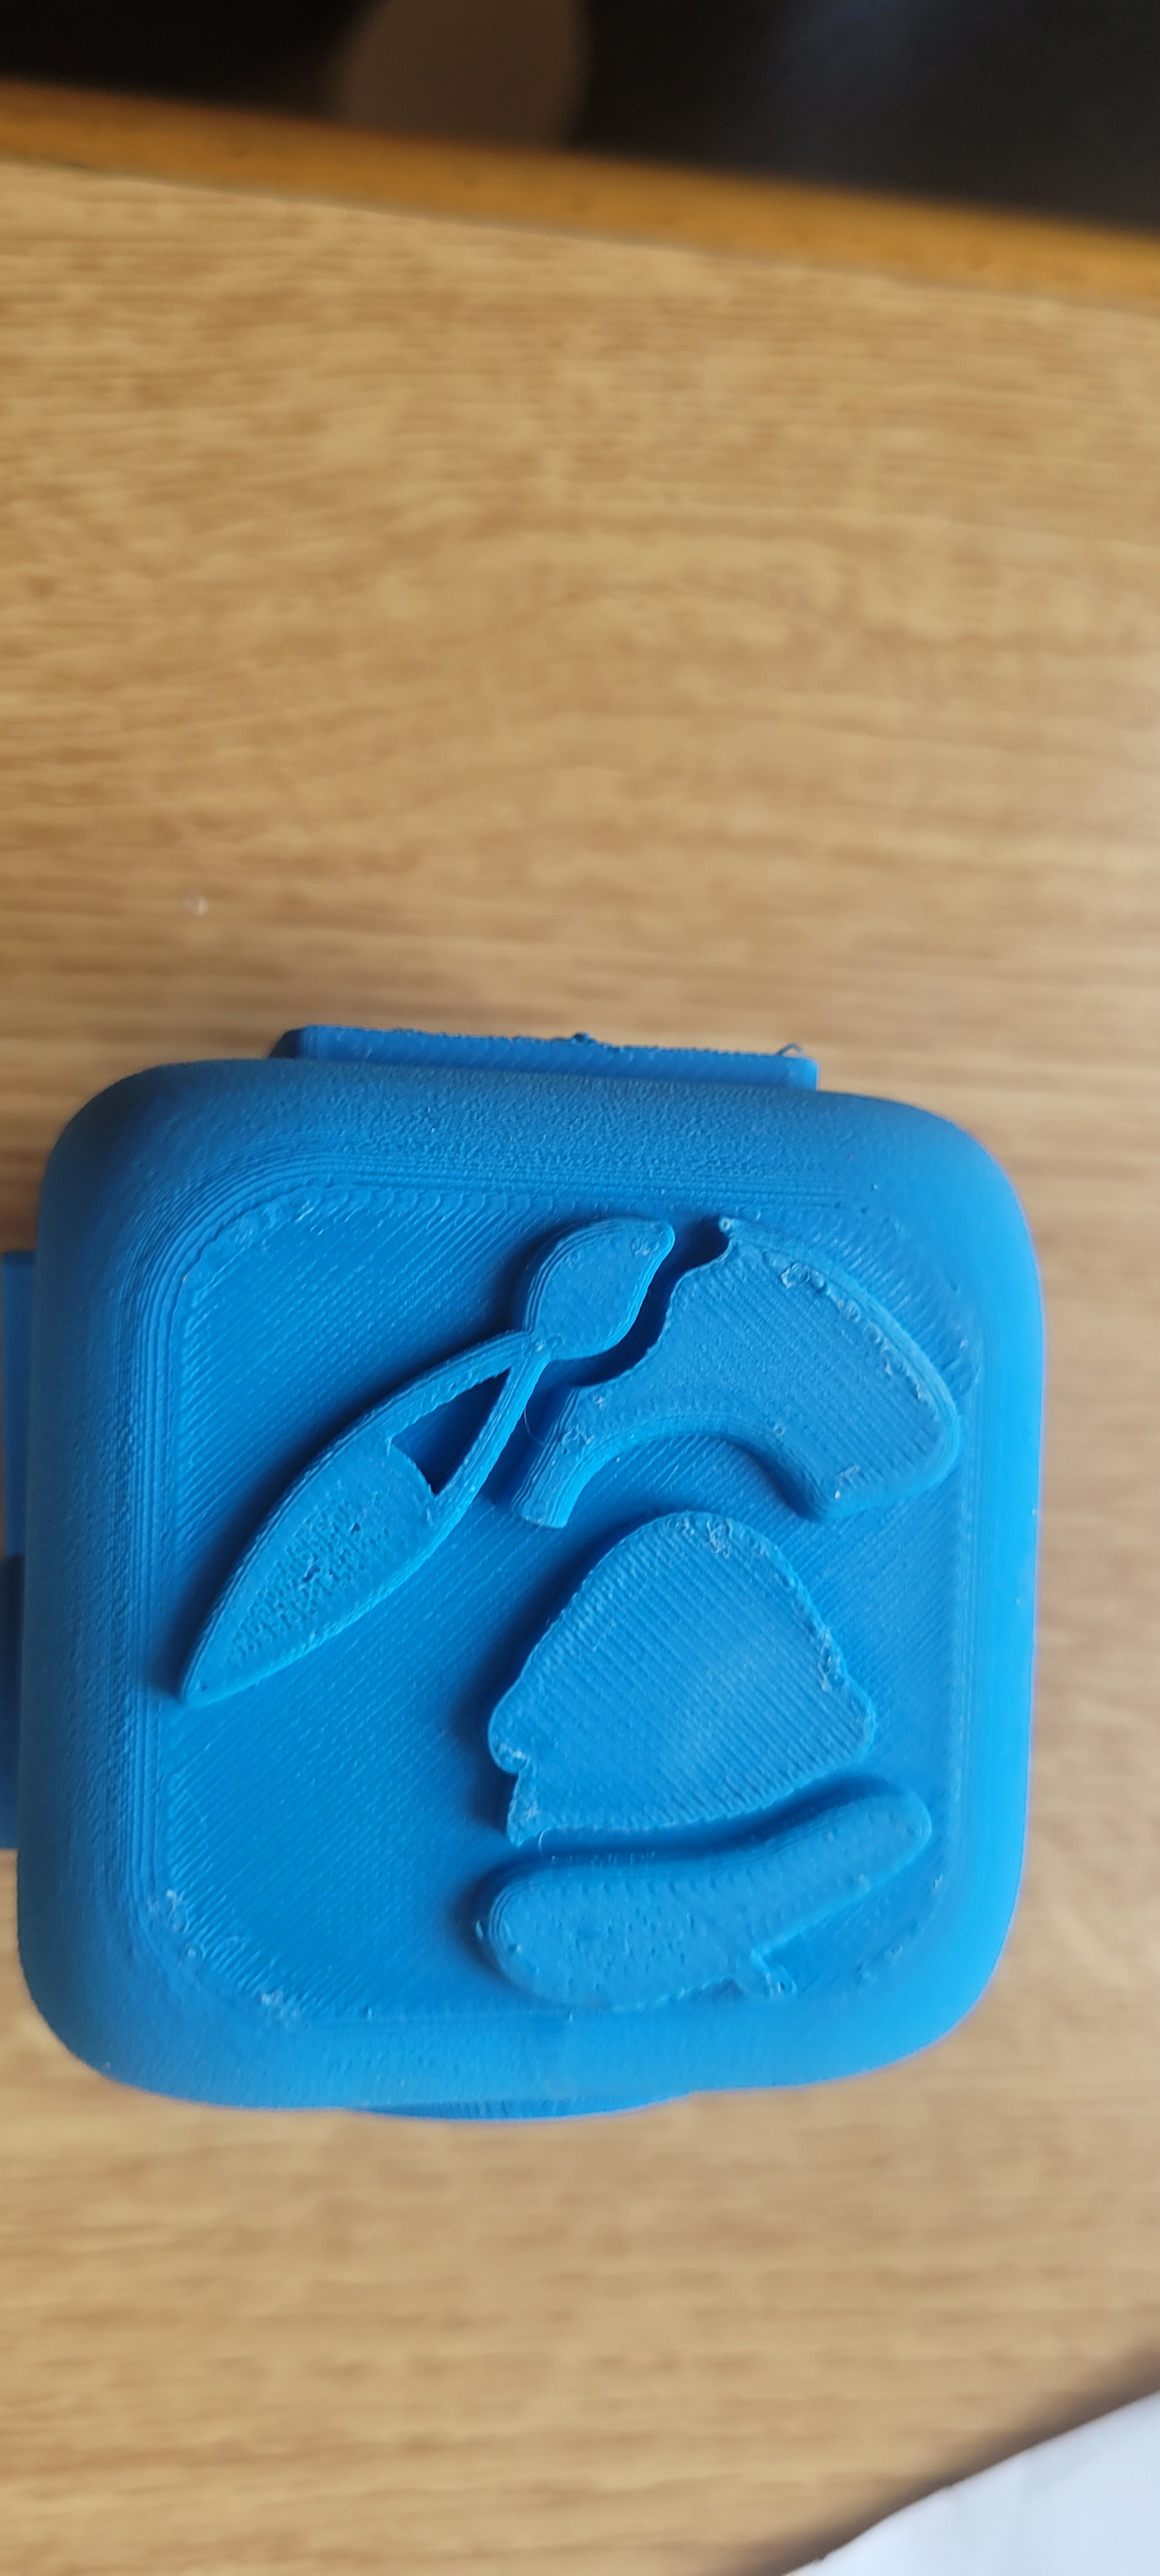Artist_Info: (36, 1040, 1033, 2093)
